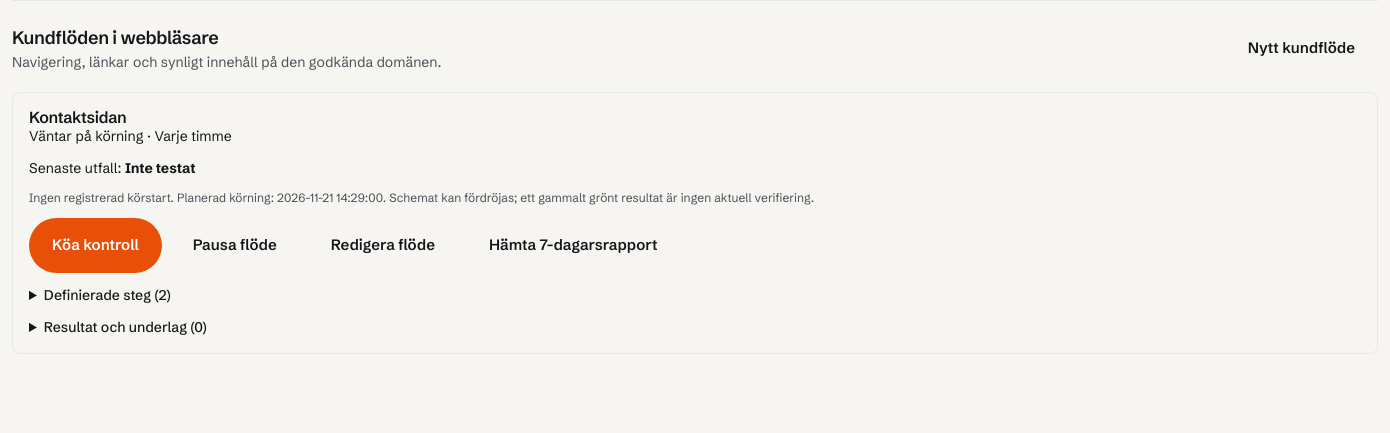
Scenario: Aurora Watch flow administration › queues a request without declaring a successful check and retains unsaved edits on failure
Later steps or results of the test are not shown.
Click the button "Köa kontroll" at coordinates (95, 246), box [29,218,162,273]
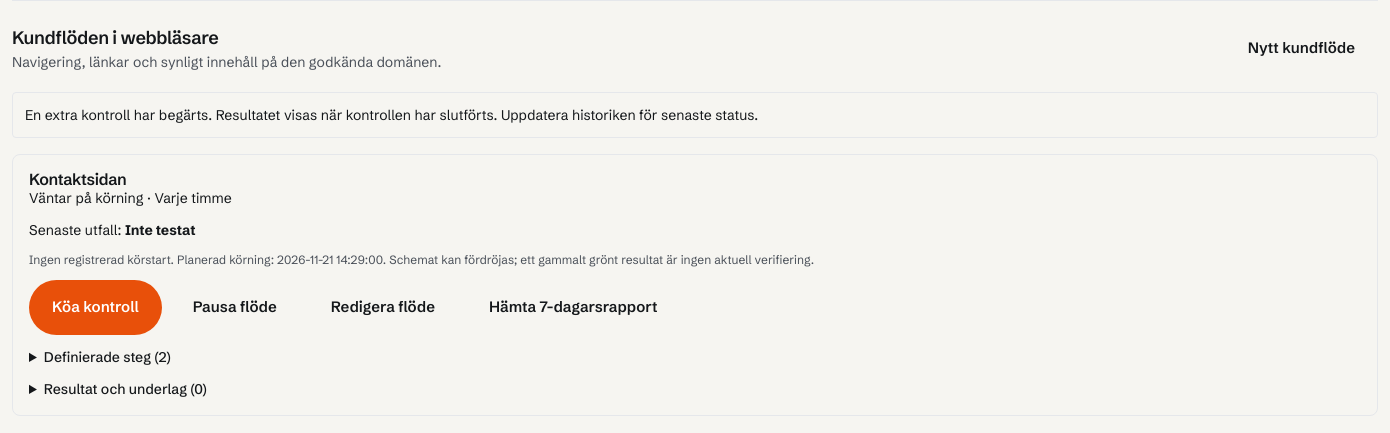
Expected: the text "Inte testat" is shown, [125,221,196,239]
Expected: the text "En extra kontroll har begärts" is shown, [25,106,758,124]
